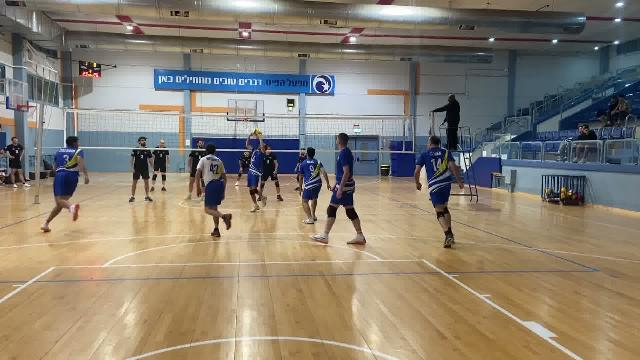ball: (251, 127, 266, 141)
